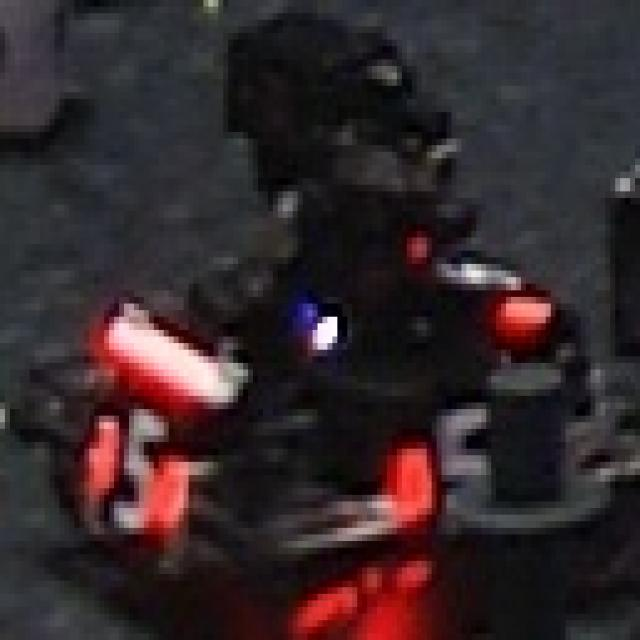R5: (412, 224, 560, 330), (84, 396, 188, 541), (387, 403, 496, 541)
